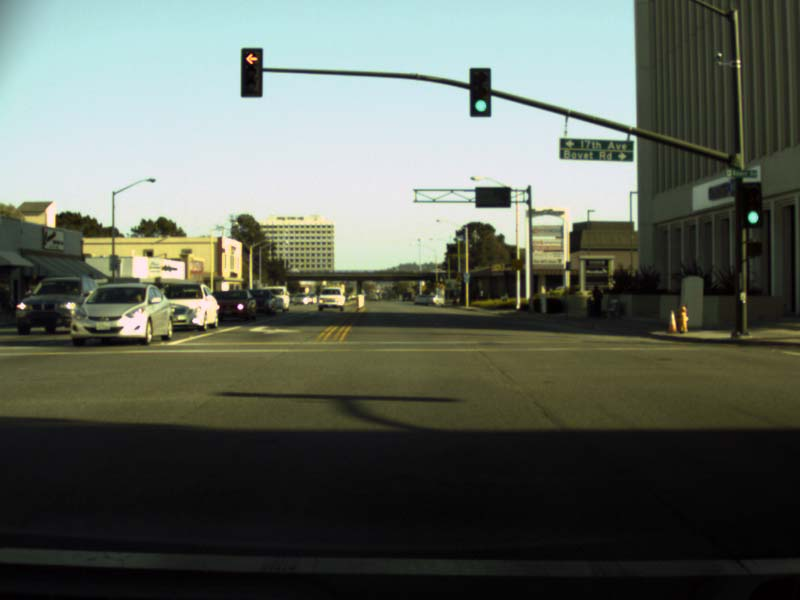Green: (738, 183, 762, 227), (469, 68, 490, 116)
Red: (241, 48, 261, 96)
